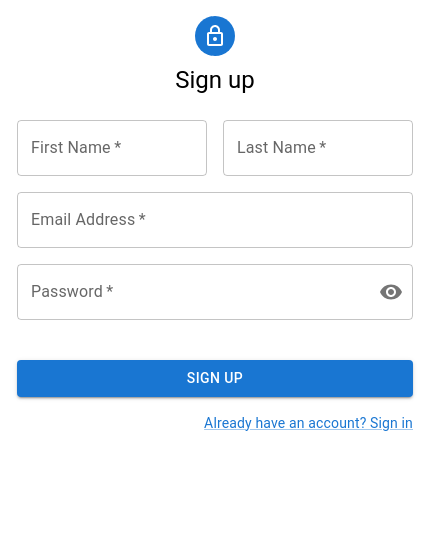
Scenario: <SignUp /> › Form validation › When submitting invalid password › When password does not contain mixture of lower & upper cases and numbers › Password is validated & error message is rendered
The width and height of the screenshot is (431, 556).
Type "password" into the password field labelled "Password *" at (190, 292), box [17, 264, 363, 320]
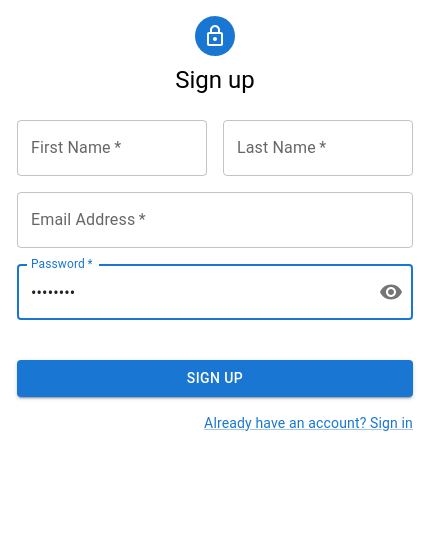
Click the button "Sign Up" at (215, 378), box [17, 360, 413, 396]
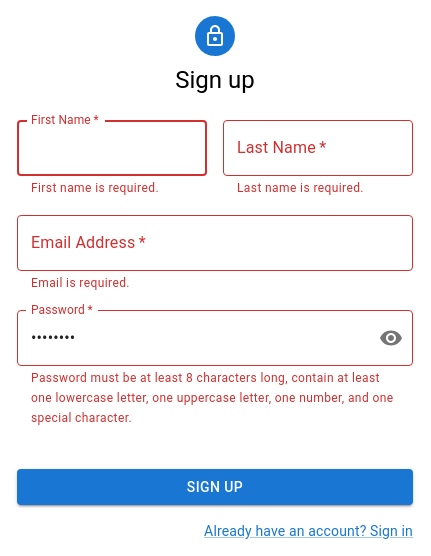
Result: the text "Password must be at least 8 characters long, contain at least one lowercase letter, one uppercase letter, one number, an" is shown at [31, 371, 394, 425]
